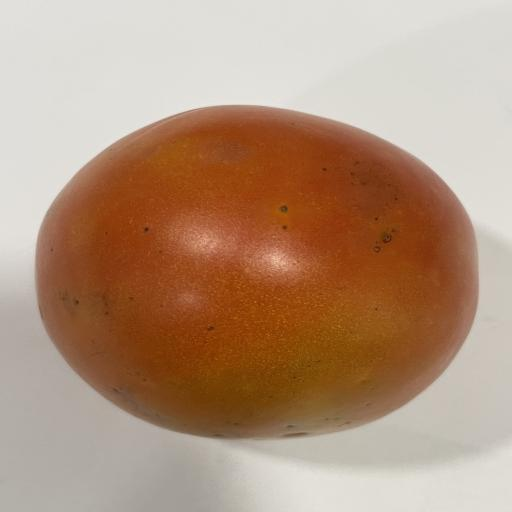unripe: (36, 106, 478, 440)
